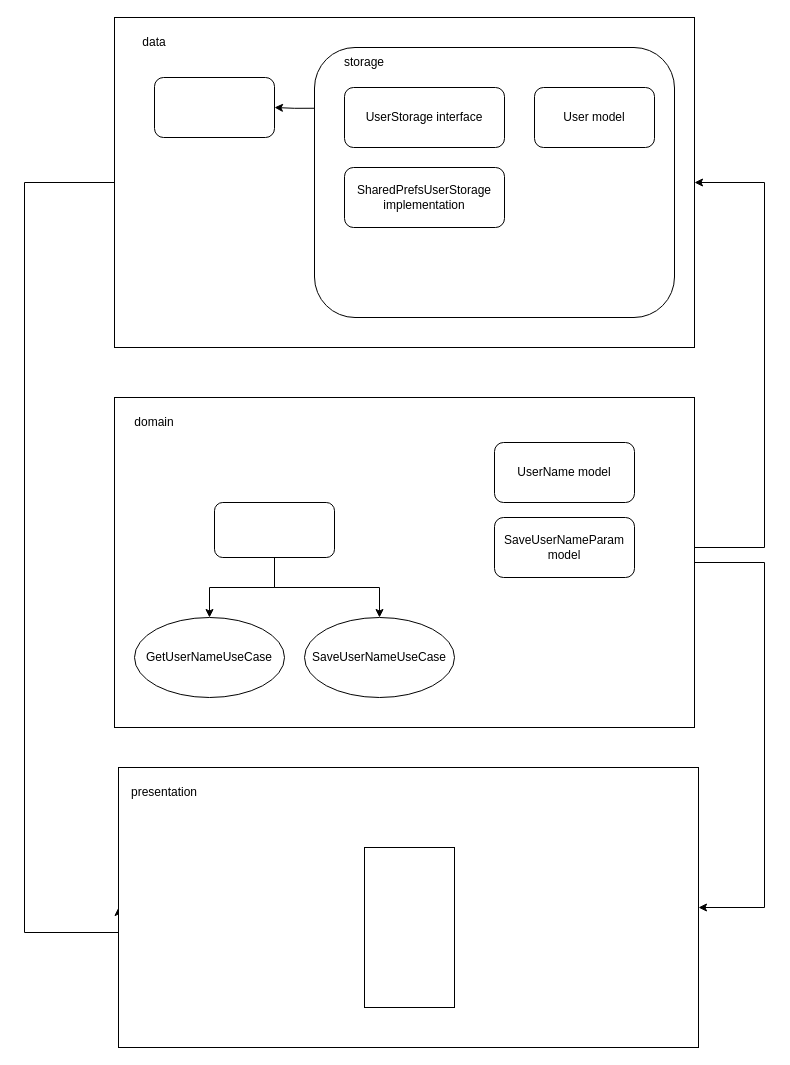
Some shapes in this 790 by 1065 pixel diagram are drawn without their labels. Each missing label, with the centre of its shape:
"Activity" goes at [409,927].
"UserRepository interface" goes at [274,530].
"UserRepositoryImpl implementation" goes at [214,107].
